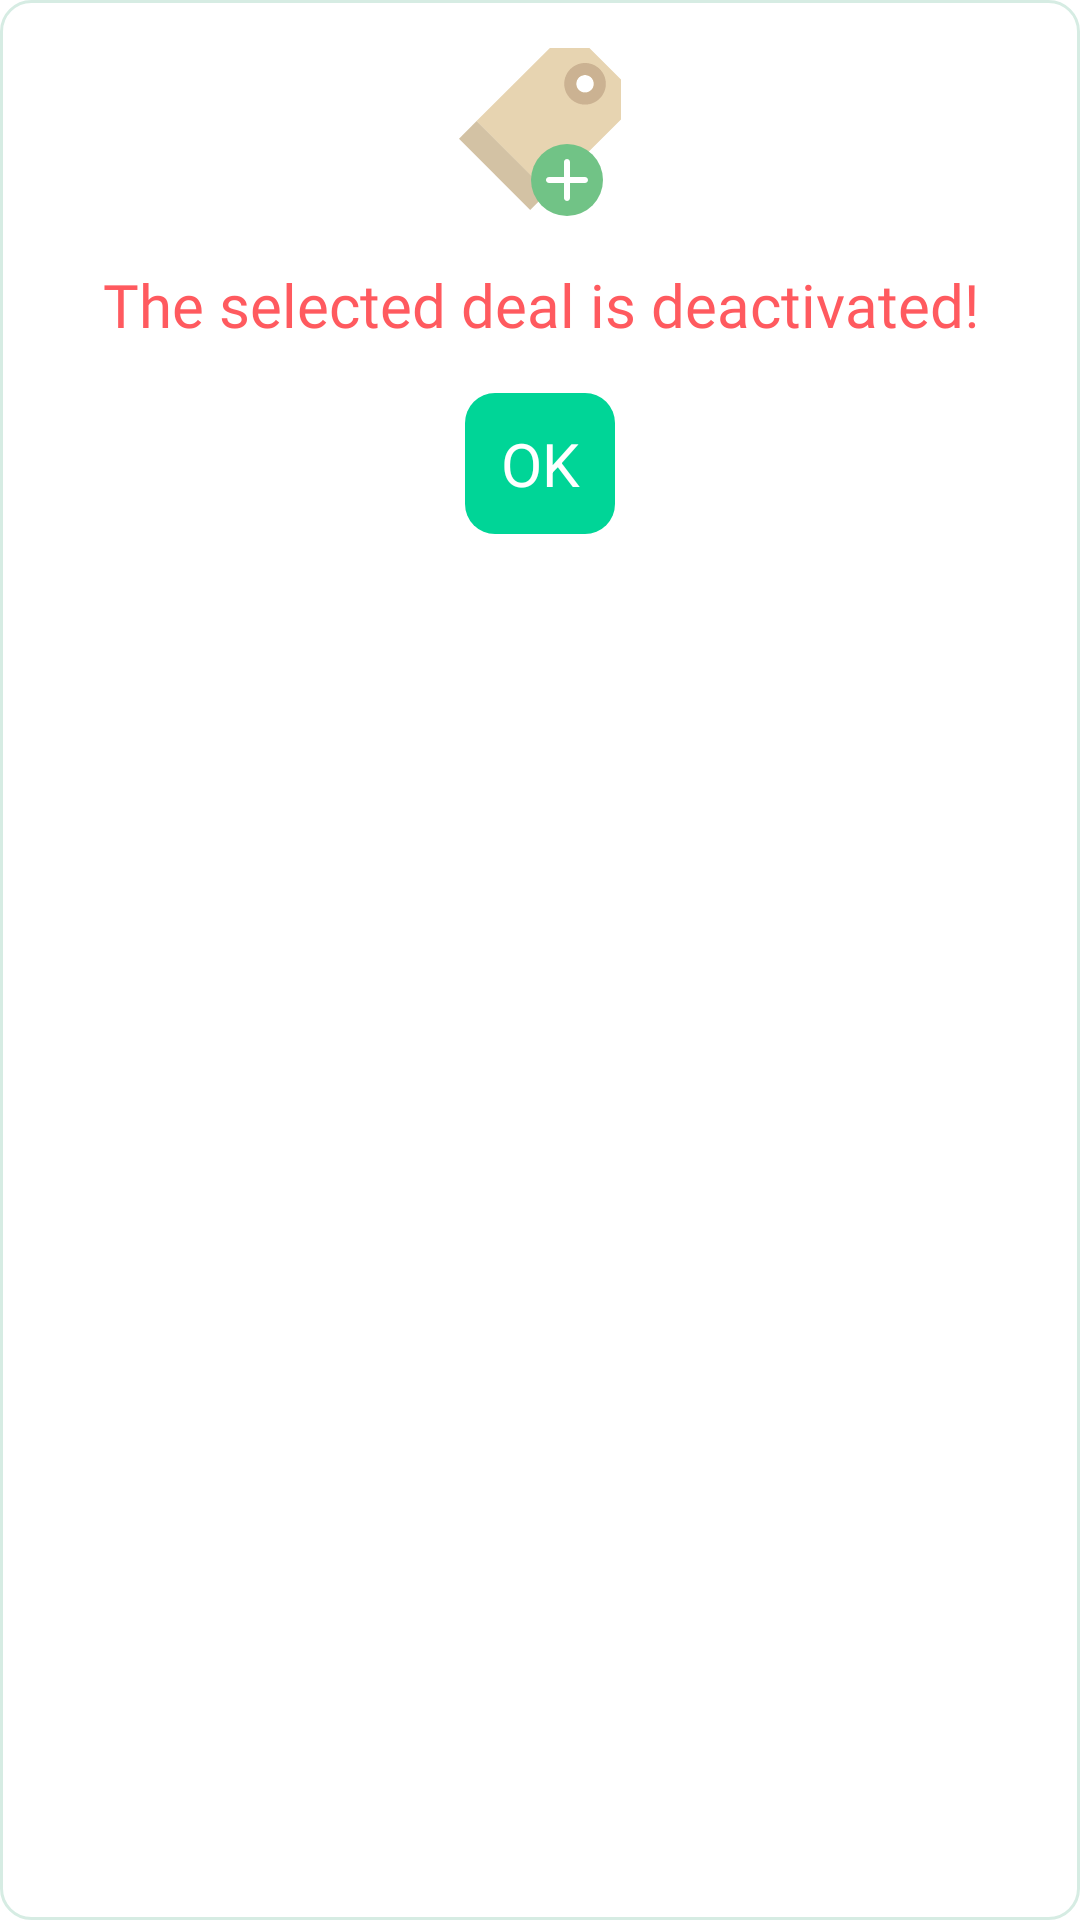

Icons on this 1080px x 1920px Android screen, each with the point to tap as (x,y):
price tag: (540,132)
